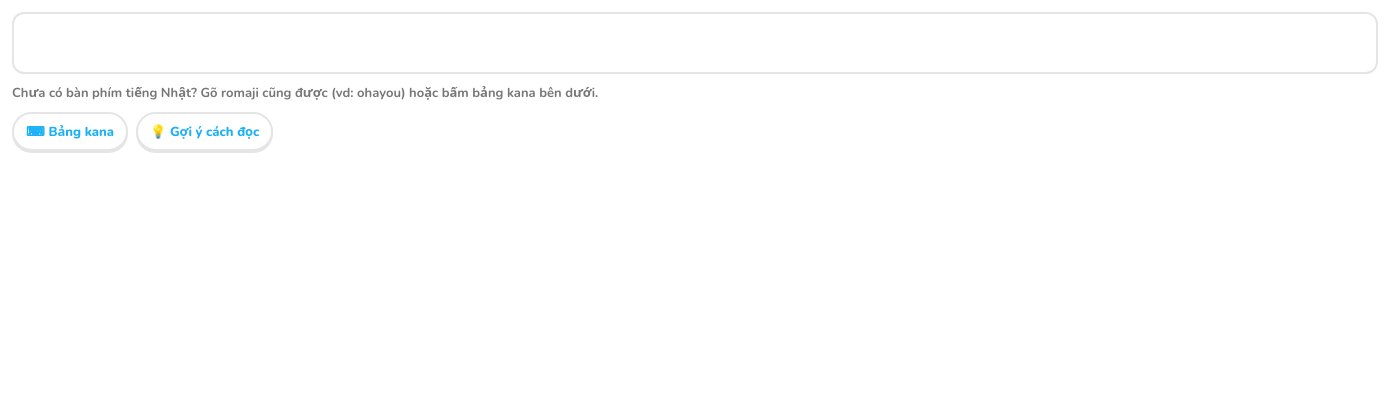
Scenario: TypingField — beginner scaffolding › keeps the kana pad collapsed outside beginner units
Click the button with test id "kana-toggle" showing "⌨ Bảng kana". click: (70,132)
box: [12,112,128,151]
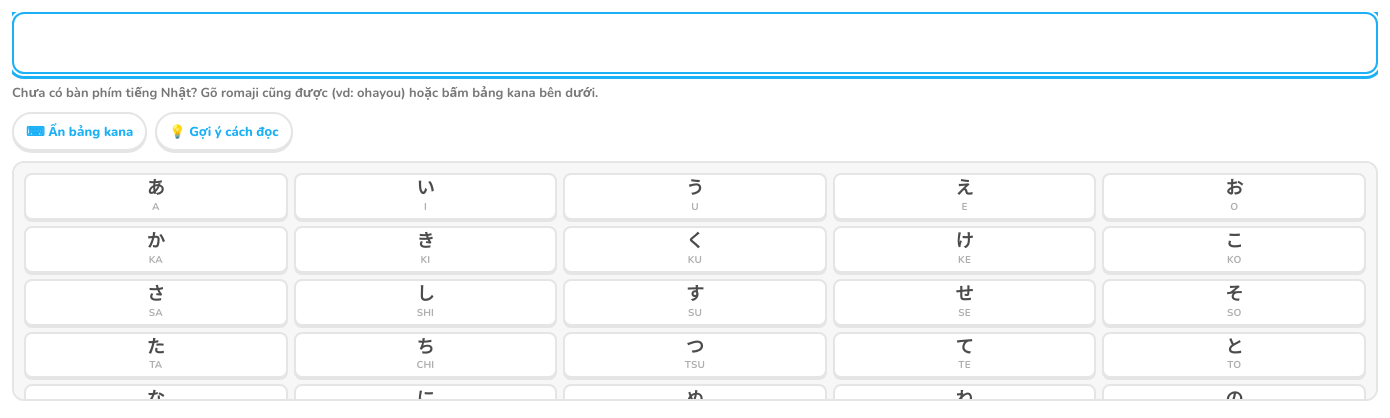
Result: the element named "Bảng kana" is shown at [12,161,1378,401]
